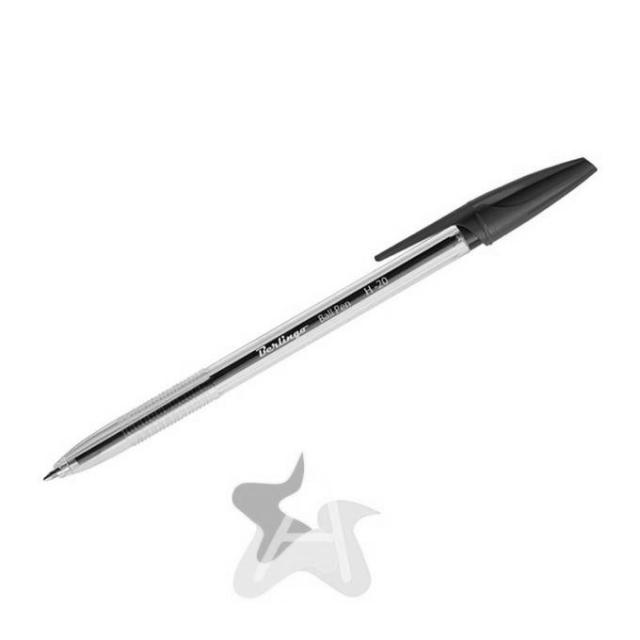pen: (43, 152, 600, 480)
